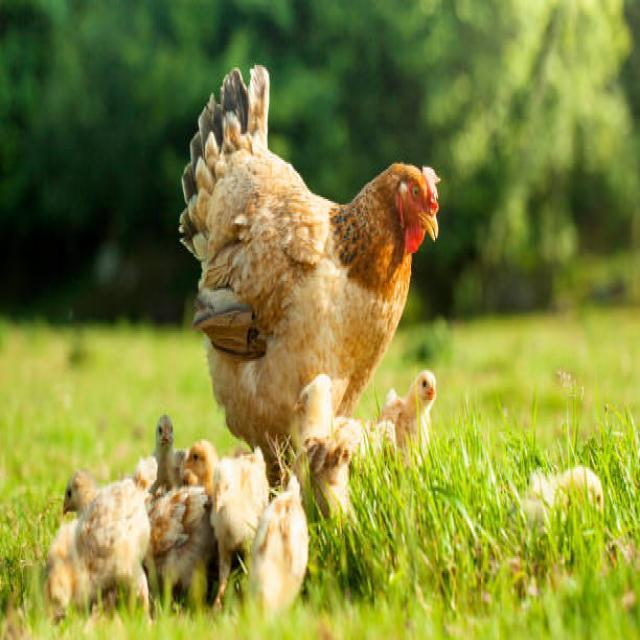Healthy: (167, 56, 462, 438)
